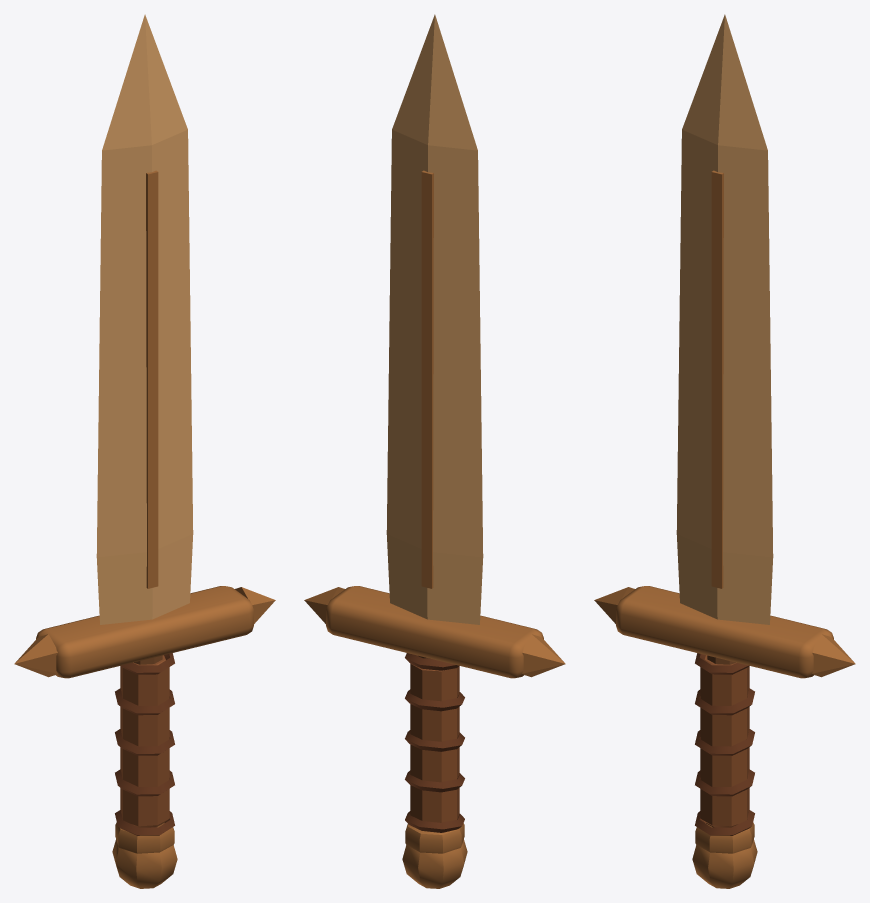
Rendered from WoodSword.fbx.
The picture shows the model from 3 angles, left to right: view 1: azimuth 30°, elevation 25°; view 2: azimuth 150°, elevation 25°; view 3: azimuth 330°, elevation 25°; orthographic projection.
Parts seen in each view (by area): view 1: WoodSword; view 2: WoodSword; view 3: WoodSword.
Part boxes in pixels (x1=…): WoodSword: x1=14, y1=14, x2=275, y2=888; WoodSword: x1=304, y1=14, x2=565, y2=888; WoodSword: x1=594, y1=14, x2=855, y2=888.
Bounding box in the file's own units: 1.52 × 4.84 × 0.34.
Materials: 1 (1 with a texture image).
